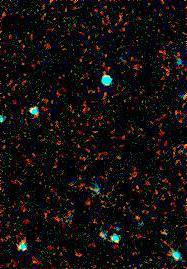star: (123, 204, 153, 234)
